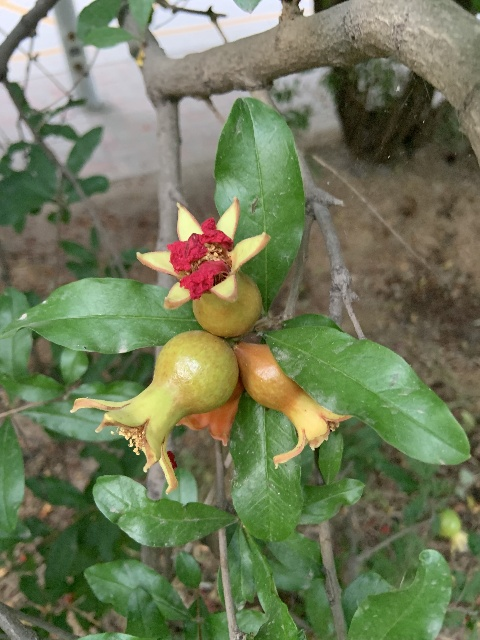early-fruit: (235, 340, 353, 467)
mid-growth: (70, 329, 238, 494), (136, 194, 270, 339)
